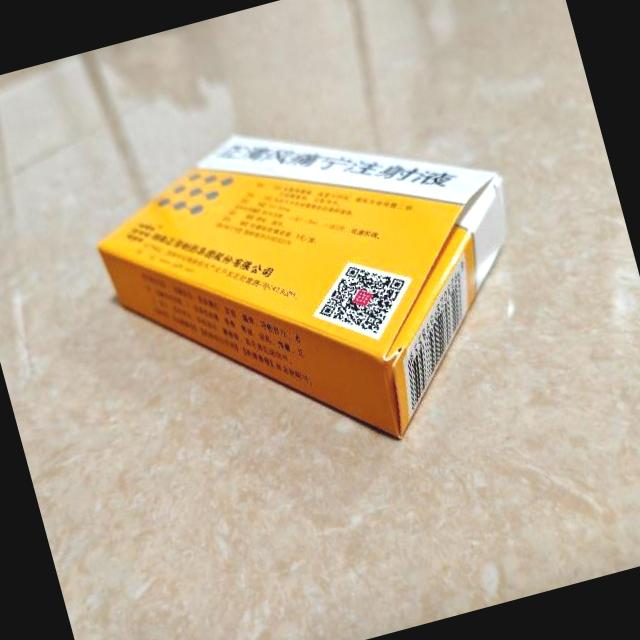box: (77, 71, 560, 504)
